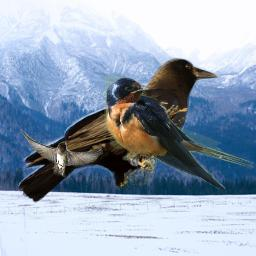Crow: (18, 53, 222, 209)
Swallow: (104, 75, 254, 189), (20, 129, 103, 179)
